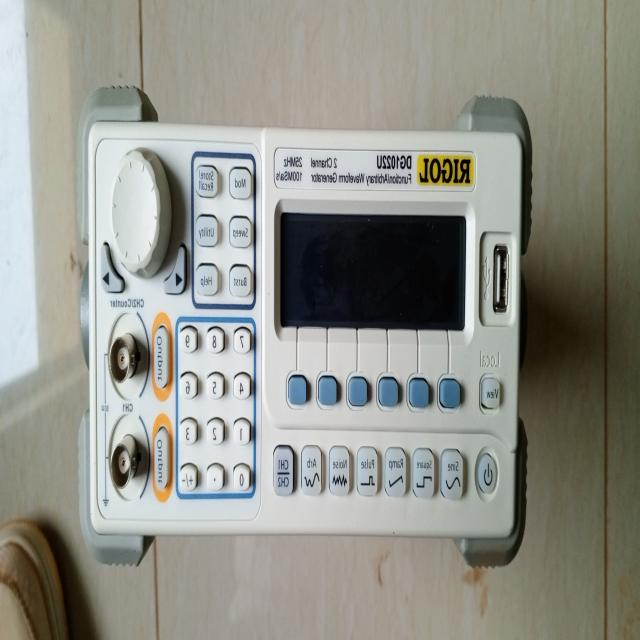Function Arbitrary Wave Form Generator 25Mhz: (66, 86, 551, 571)
